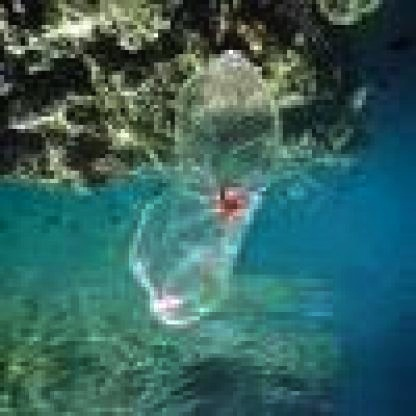pbag: (129, 50, 283, 333)
